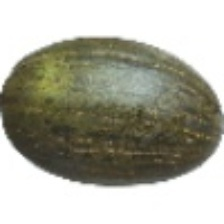honeydew: (43, 21, 194, 220)
